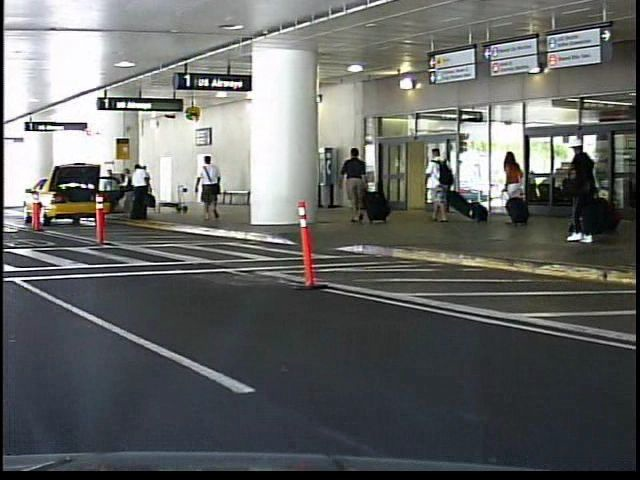person: (557, 134, 605, 246), (420, 142, 458, 223), (498, 145, 532, 231), (338, 143, 370, 226), (197, 152, 228, 225), (186, 164, 208, 211)
